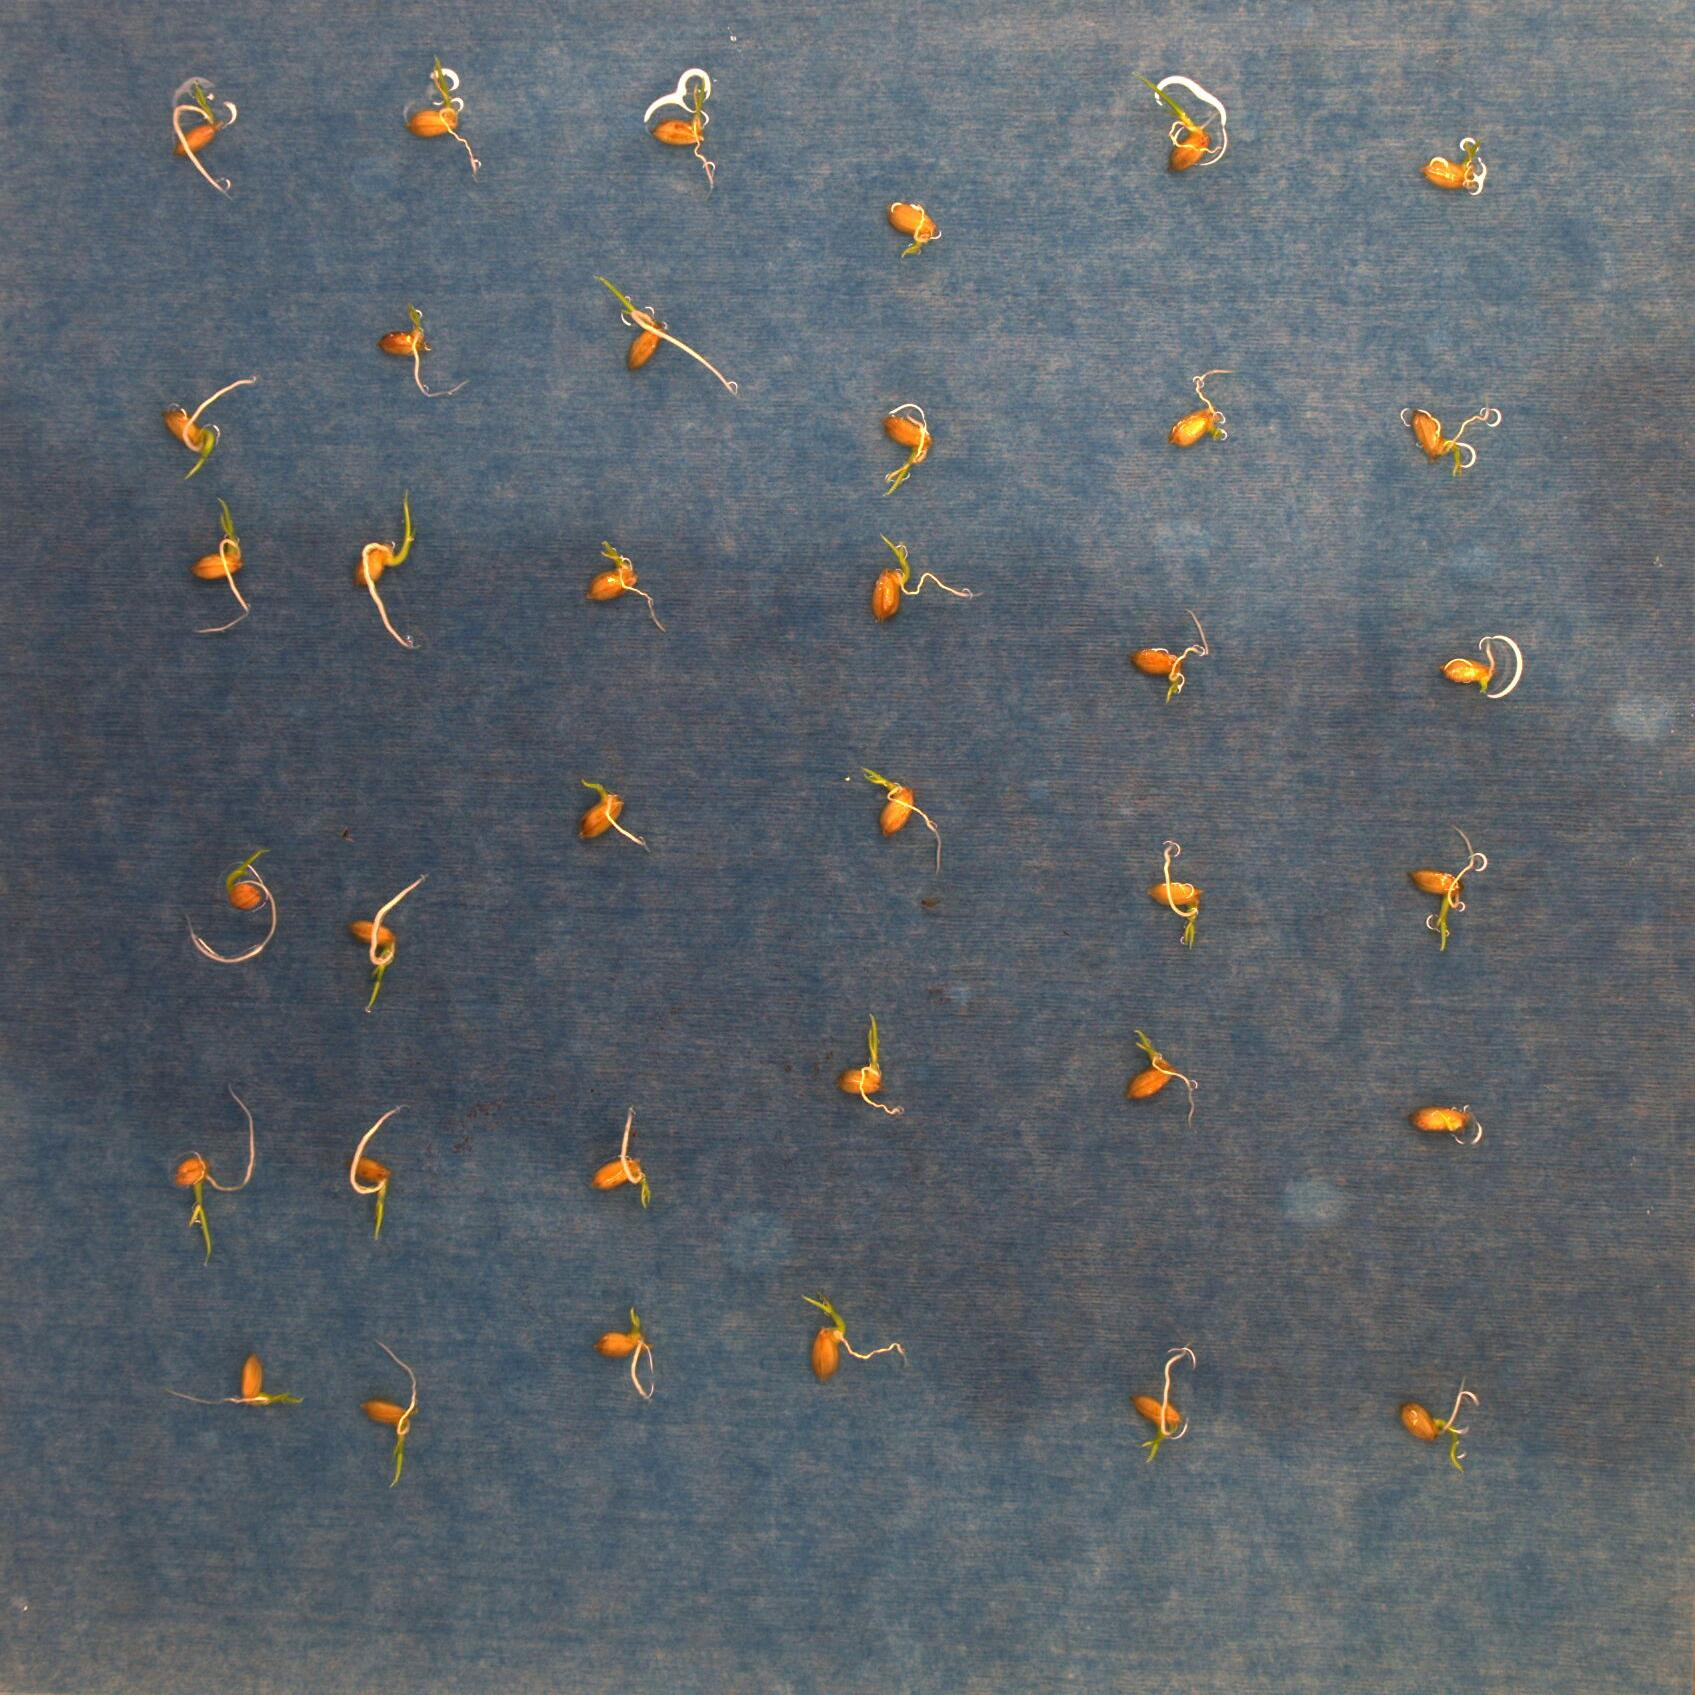not sprout: (359, 1338, 419, 1492), (1167, 365, 1239, 449), (1437, 635, 1496, 695), (1408, 1104, 1478, 1135)
sprout: (594, 270, 739, 397), (172, 1080, 258, 1267), (355, 490, 425, 653), (185, 844, 278, 965), (343, 875, 424, 1015), (868, 532, 983, 619), (798, 1293, 906, 1385), (404, 53, 480, 182), (858, 761, 944, 871), (163, 376, 253, 480), (1405, 823, 1475, 955), (377, 300, 466, 397), (188, 494, 248, 635), (1132, 67, 1212, 172), (163, 1350, 304, 1408), (581, 539, 666, 633), (1130, 607, 1211, 705), (348, 1104, 405, 1239), (171, 78, 234, 199), (650, 78, 716, 196), (1125, 1023, 1200, 1125), (1132, 1347, 1191, 1465), (837, 1010, 900, 1118), (590, 1104, 653, 1208), (1399, 1377, 1468, 1471), (1146, 841, 1203, 950), (1412, 405, 1493, 478), (879, 405, 931, 504), (591, 1305, 646, 1399), (577, 775, 646, 847), (1419, 115, 1478, 192), (886, 200, 944, 258)
